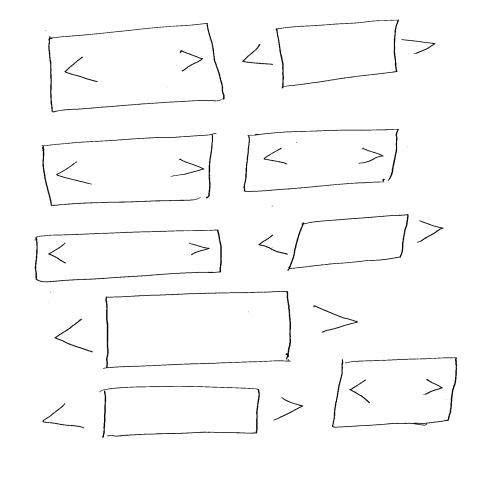Carousel: (53, 291, 357, 369), (48, 21, 229, 114), (40, 386, 305, 440), (240, 20, 437, 89), (41, 133, 214, 208), (259, 214, 445, 271), (34, 229, 224, 284), (243, 129, 400, 194), (331, 357, 458, 429)
